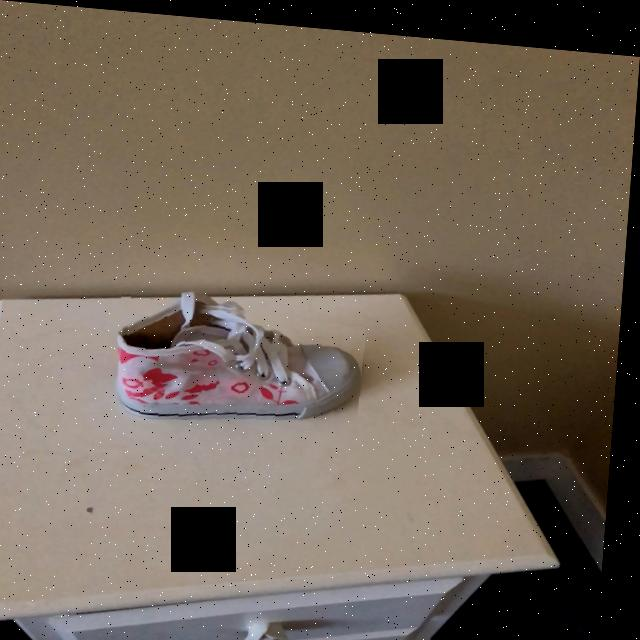shoe: (122, 299, 367, 416)
